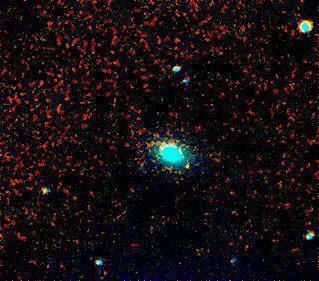star: (172, 151, 202, 181)
